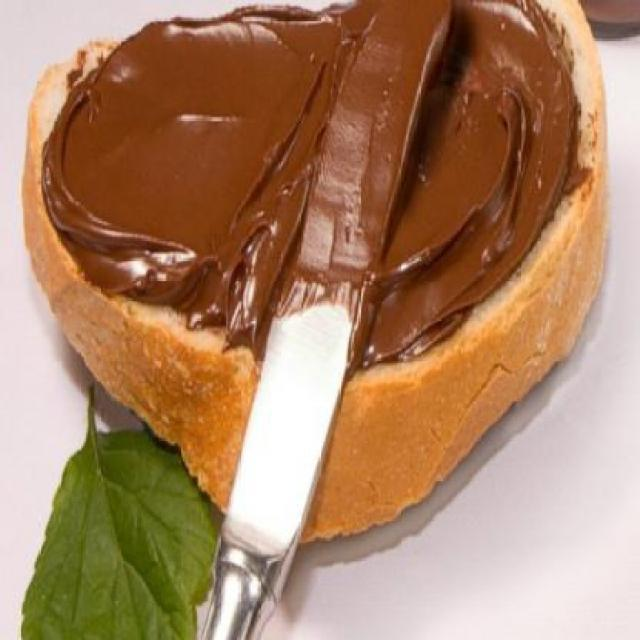Spread: (43, 3, 572, 326)
